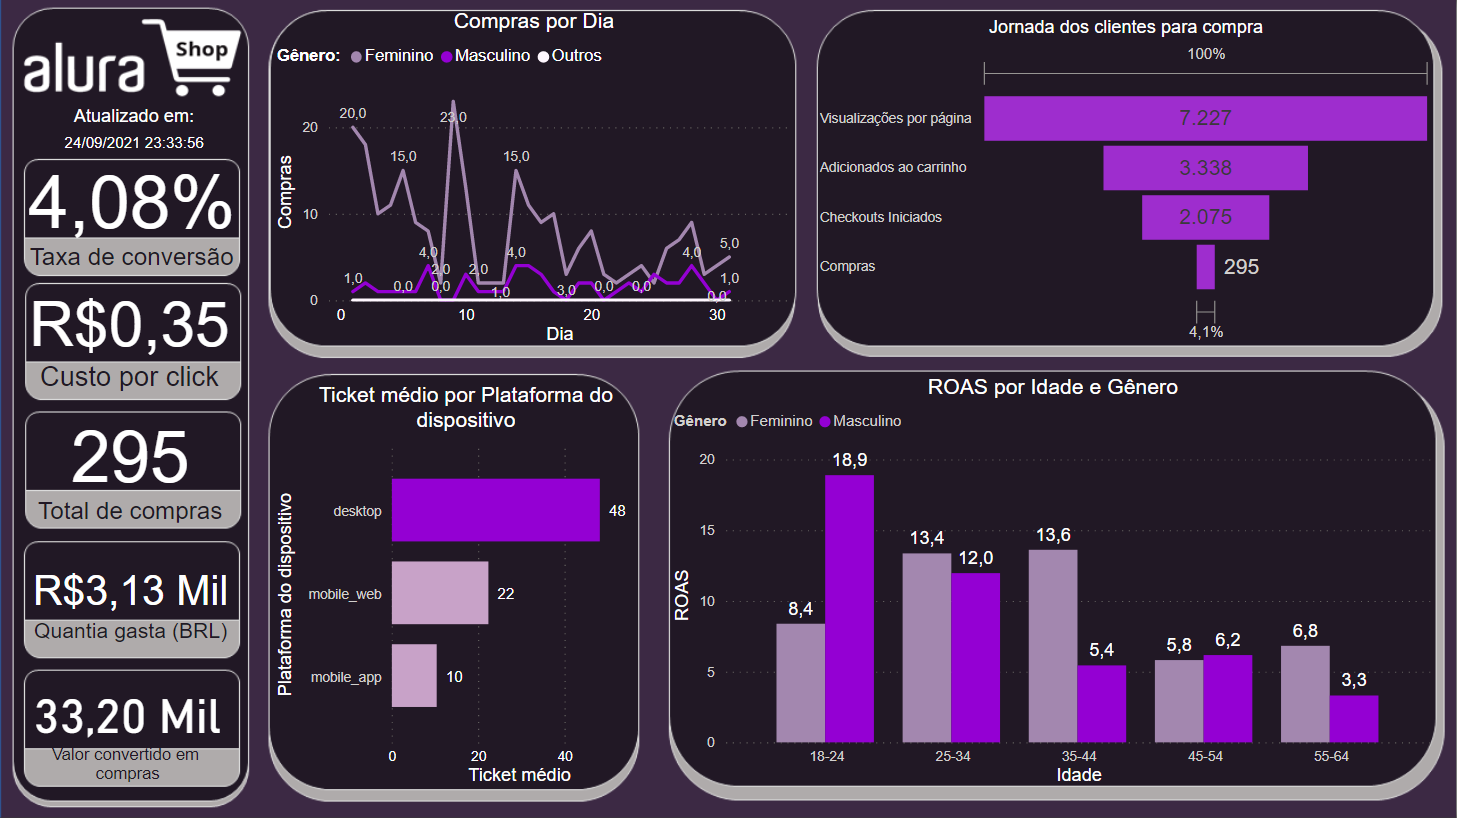

This screenshot's page, from the dashboard's own definition file:
{"tool":"powerbi","page":{"name":"Métricas de marketing","canvas":[1280,720],"ordinal":0},"visuals":[{"type":"funnel","title":"Jornada dos clientes para compra","fields":{"Y":["Sum(Tabela_idade_e_genero.Visualizações por página)","Sum(Tabela_idade_e_genero.Adicionados ao carrinho)","Sum(Tabela_idade_e_genero.Checkouts Iniciados)","Sum(Tabela_idade_e_genero.Compras)"]},"box":[715.6,14.9,548.6,291.9],"z":0},{"type":"card","fields":{"Values":["Sum(Tabela_idade_e_genero.Quantia gasta (BRL))"]},"box":[19.1,466,191.3,125.1],"z":1000},{"type":"card","fields":{"Values":["medidas.total do valor convertido em compras1"]},"box":[16.7,552.1,190.8,161.8],"z":2000},{"type":"card","fields":{"Values":["medidas.total de compras"]},"box":[22,352.5,185.5,111.6],"z":3000},{"type":"lineChart","title":"Compras por Dia","fields":{"Category":["Tabela_idade_e_genero.Dia.Variation.Hierarquia de datas.Ano","Tabela_idade_e_genero.Dia.Variation.Hierarquia de datas.Trimestre","Tabela_idade_e_genero.Dia.Variation.Hierarquia de datas.Mês","Tabela_idade_e_genero.Dia.Variation.Hierarquia de datas.Dia"],"Y":["Sum(Tabela_idade_e_genero.Compras)"],"Series":["Tabela_idade_e_genero.Gênero"]},"box":[238.2,7.9,462.4,298.9],"z":4000},{"type":"clusteredColumnChart","fields":{"Category":["Tabela_idade_e_genero.Idade"],"Series":["Tabela_idade_e_genero.Gênero"],"Y":["medidas.ROAS"]},"box":[587,329.6,676.8,364.9],"z":5000},{"type":"clusteredBarChart","fields":{"Category":["Tabela_dispositivos.Plataforma do dispositivo","Tabela_dispositivos.Plataforma"],"Y":["medidas.Ticket médio"]},"box":[238.2,336.7,342.9,357.8],"z":6000},{"type":"card","fields":{"Values":["medidas.Custo por click"]},"box":[8.8,235.6,210.1,116.9],"z":6001},{"type":"card","fields":{"Values":["medidas.Taxa de conversão"]},"box":[12.3,125.7,206.6,117.8],"z":6002},{"type":"card","title":"Atualizado em:","fields":{"Values":["Min(Consulta1.Data e hora)"]},"box":[22,93.2,191.6,51],"z":6003}]}

Visuals, with their boxes in screenshot pixels (x1, y1, x2, y2), scaled from the page's 1280x720 canvas onto the 1457x818 screenshot:
"Jornada dos clientes para compra" funnel: box(815, 17, 1439, 349)
card - Sum(Tabela_idade_e_genero.Quantia gasta (BRL)): box(22, 529, 239, 672)
card - medidas.total do valor convertido em compras1: box(19, 627, 236, 811)
card - medidas.total de compras: box(25, 400, 236, 527)
"Compras por Dia" lineChart: box(271, 9, 797, 349)
clusteredColumnChart - Tabela_idade_e_genero.Idade x Tabela_idade_e_genero.Gênero: box(668, 374, 1439, 789)
clusteredBarChart - Tabela_dispositivos.Plataforma do dispositivo x Tabela_dispositivos.Plataforma: box(271, 383, 661, 789)
card - medidas.Custo por click: box(10, 268, 249, 400)
card - medidas.Taxa de conversão: box(14, 143, 249, 277)
"Atualizado em:" card: box(25, 106, 243, 164)
